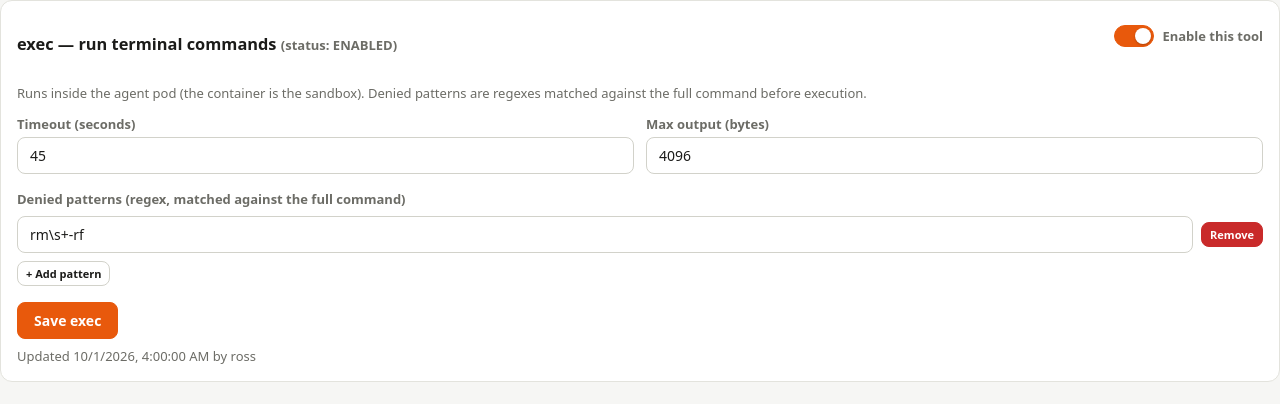
it: ToolCard save paths › maps a 403 to the platform-admin hint
This screenshot has width=1280, height=404.
Click the button "Save exec" at (68, 320), box [17, 302, 118, 339]
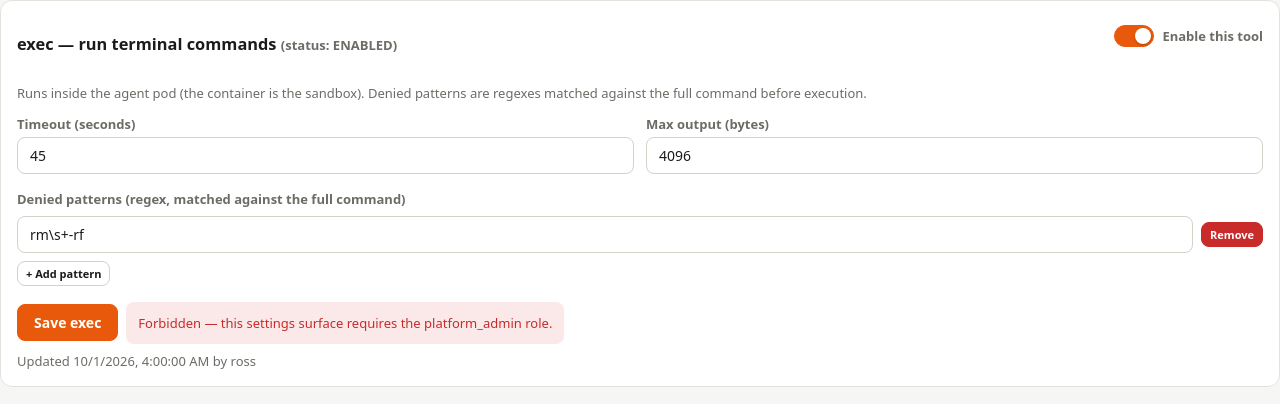
Now the message shows "requires the platform_admin role", box [138, 314, 552, 332]
